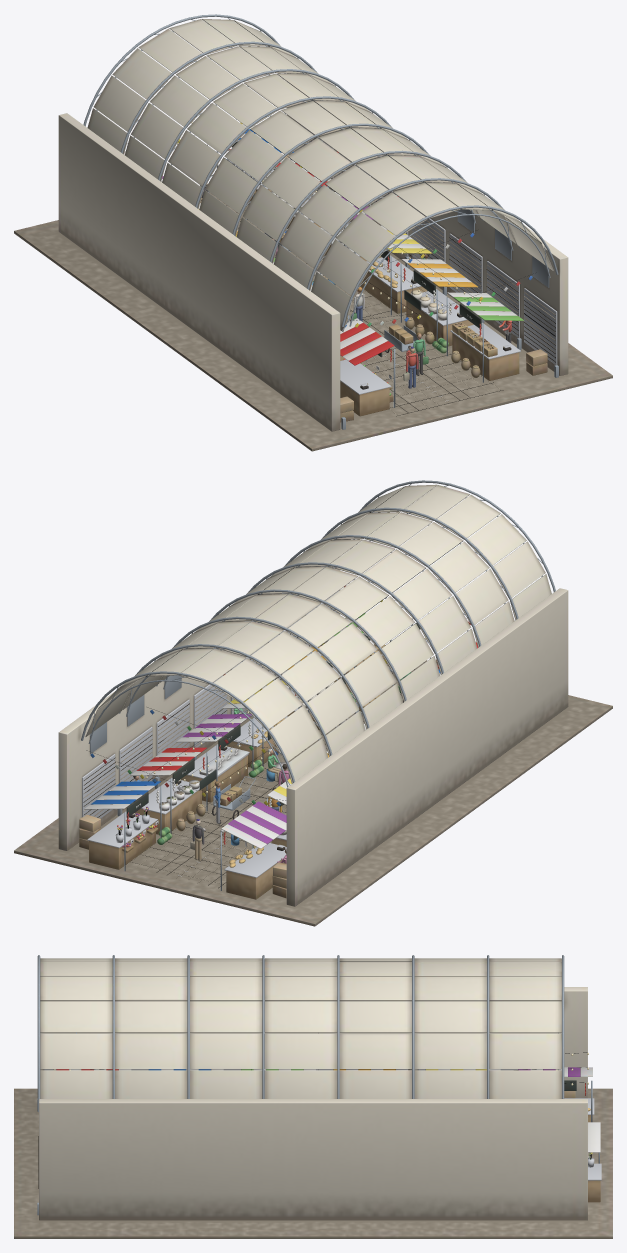
Rendered from MachaneYehuda.fbx.
3 views of the same model, one above another, from view 1: azimuth 30°, elevation 25°; view 2: azimuth 150°, elevation 25°; view 3: azimuth 270°, elevation 25° (orthographic).
Visible parts, largest first — view 1: MachaneYehuda_Baked, MachaneYehuda_S_Truss, MachaneYehuda_G_Steel; view 2: MachaneYehuda_Baked, MachaneYehuda_G_Steel, MachaneYehuda_S_Truss; view 3: MachaneYehuda_Baked, MachaneYehuda_S_Truss, MachaneYehuda_G_Steel.
Boxes of the visible parts, <box> form: MachaneYehuda_Baked: <box>14,19,612,451</box>; MachaneYehuda_S_Truss: <box>83,14,558,429</box>; MachaneYehuda_G_Steel: <box>228,125,557,401</box>; MachaneYehuda_Baked: <box>14,484,612,926</box>; MachaneYehuda_G_Steel: <box>82,591,382,877</box>; MachaneYehuda_S_Truss: <box>81,480,555,890</box>; MachaneYehuda_Baked: <box>14,958,612,1238</box>; MachaneYehuda_S_Truss: <box>37,955,599,1215</box>; MachaneYehuda_G_Steel: <box>44,1069,601,1180</box>.
Size of the model in its own units: 14 by 8.77 by 24.
Materials: 6 (1 with a texture image).
